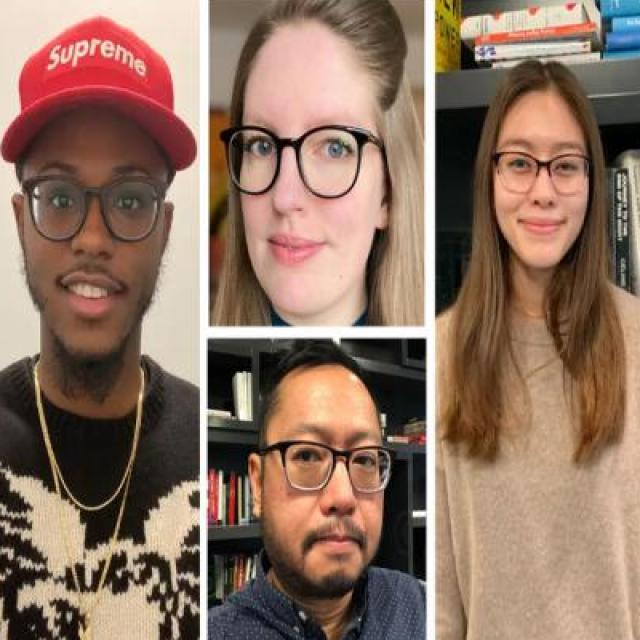Glasses: (220, 123, 380, 200), (20, 174, 165, 244), (264, 436, 398, 496), (488, 149, 592, 196)
